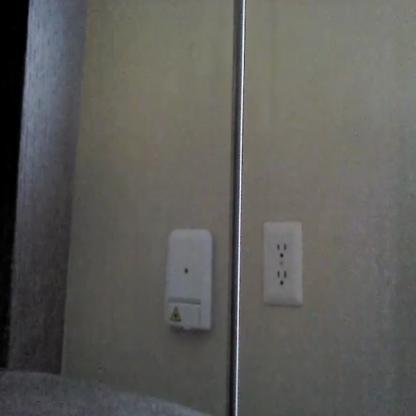OUTLET: (262, 222, 302, 306)
